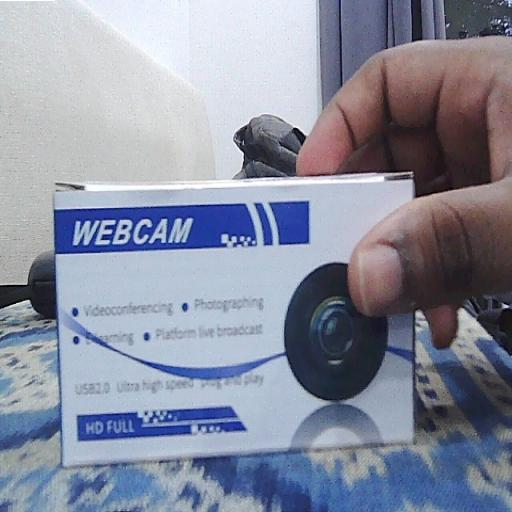webcam_box: (52, 172, 416, 469)
